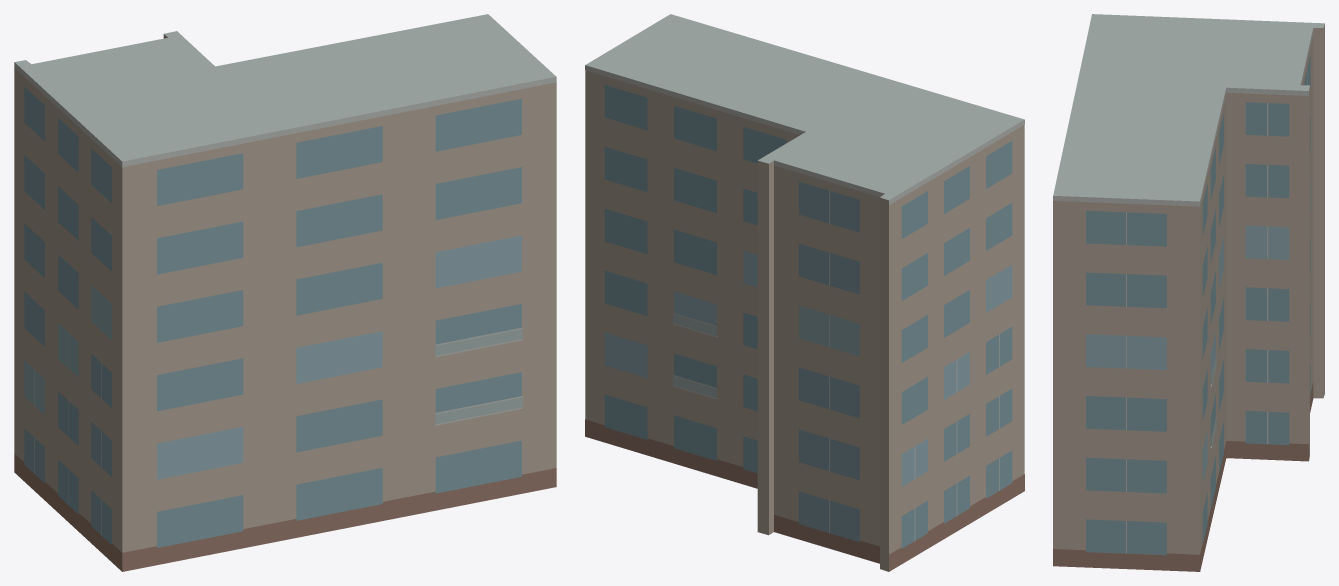
File: survey-upis-32603202.glb
The picture shows the model from 3 angles, left to right: view 1: azimuth 30°, elevation 25°; view 2: azimuth 150°, elevation 25°; view 3: azimuth 270°, elevation 25°; orthographic projection. The views are drawn at different scales.
Parts seen in each view (by area): view 1: survey-upis-32603202.tmp; view 2: survey-upis-32603202.tmp; view 3: survey-upis-32603202.tmp.
Part boxes in pixels (x1=…): survey-upis-32603202.tmp: x1=14, y1=14, x2=556, y2=571; survey-upis-32603202.tmp: x1=585, y1=14, x2=1024, y2=571; survey-upis-32603202.tmp: x1=1053, y1=14, x2=1324, y2=571.
Size of the model in its own units: 19.45 by 17.9 by 11.91.
